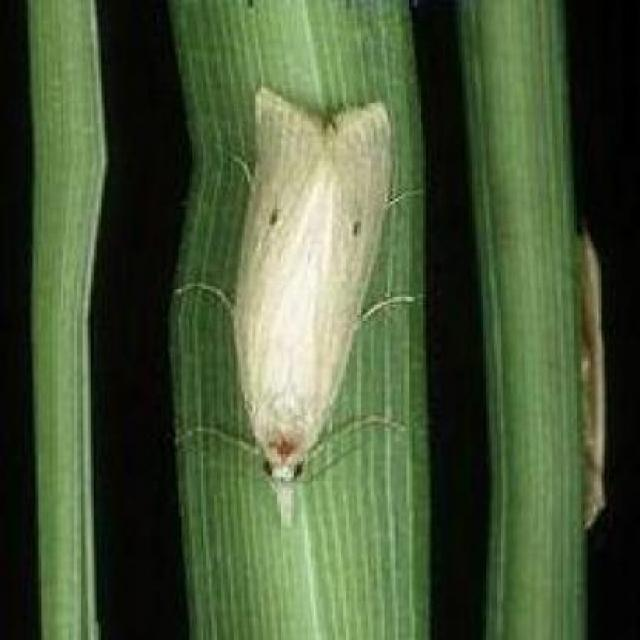stem-borer: (202, 88, 412, 537)
